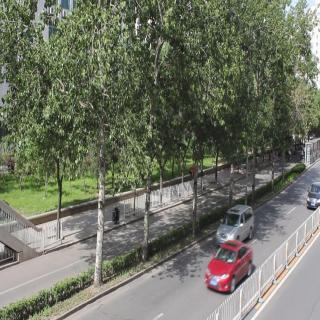Car: (209, 239, 250, 298), (219, 198, 253, 246), (305, 178, 320, 221)
